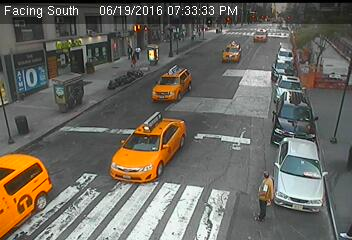neg: (296, 80, 317, 109), (190, 42, 209, 68), (240, 41, 258, 66)
pos: (245, 168, 284, 220), (122, 38, 137, 58), (125, 51, 139, 71), (133, 41, 144, 56)
